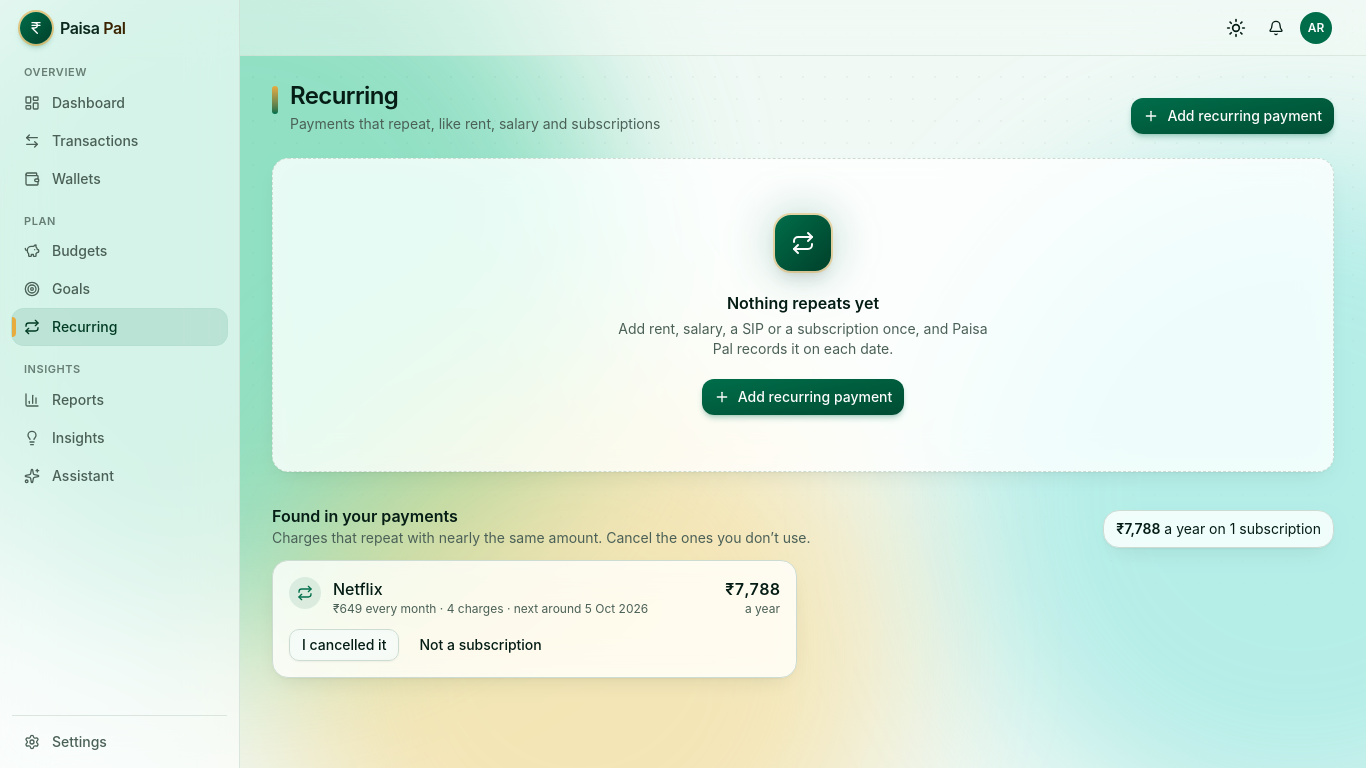
Scenario: subscriptions on the recurring page › shows what was found and lets the user mark one cancelled
Expected: the element named "Subscriptions found" shows "₹7,788 a year on 1 subscription", left=272, top=504, right=1334, bottom=678
Expected: the list item "Netflix" shows "₹649 every month · 4 charges · next around 5 Oct 2026", left=272, top=560, right=797, bottom=678
Step 1. Click the button "I cancelled it" → (344, 645), box left=289, top=629, right=399, bottom=661
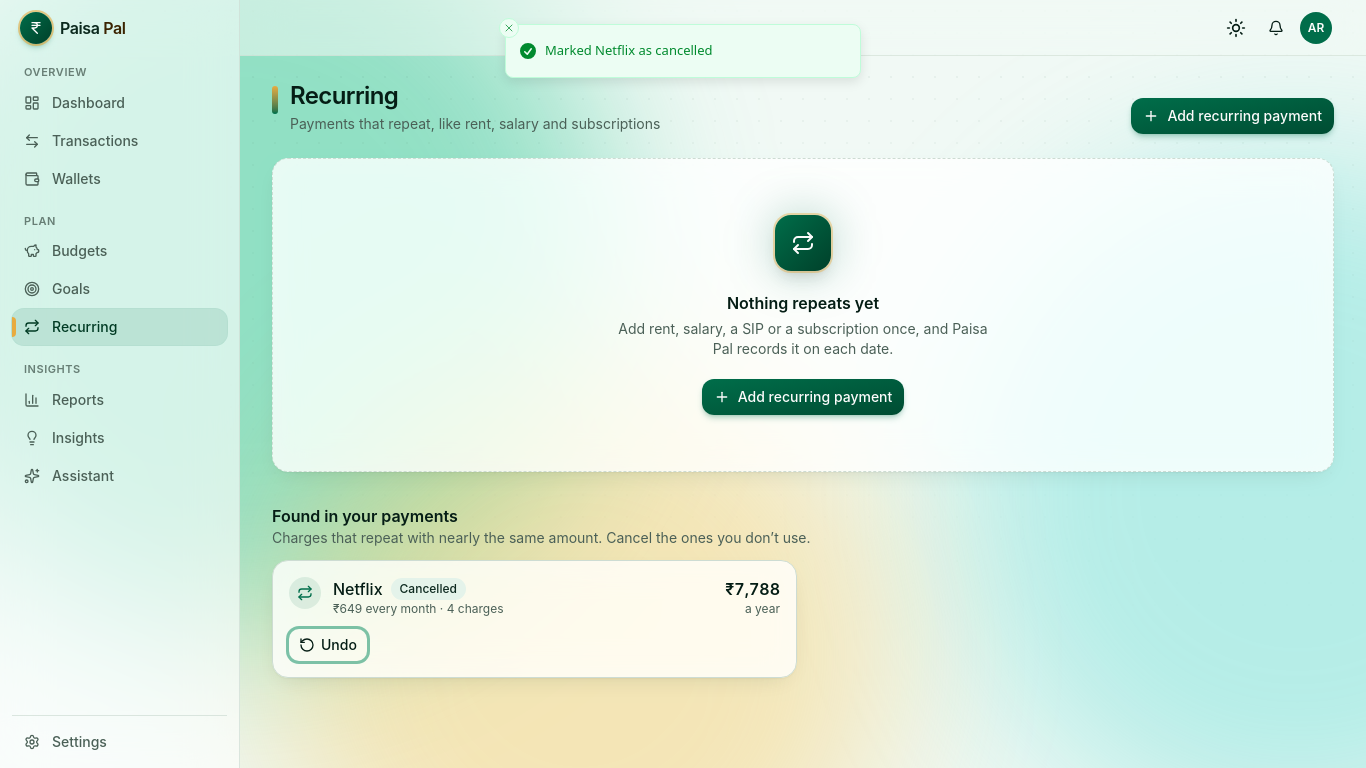
Now the text "Cancelled" is shown, box left=391, top=578, right=466, bottom=600
Now the button "Undo" is shown, box left=289, top=629, right=367, bottom=661
